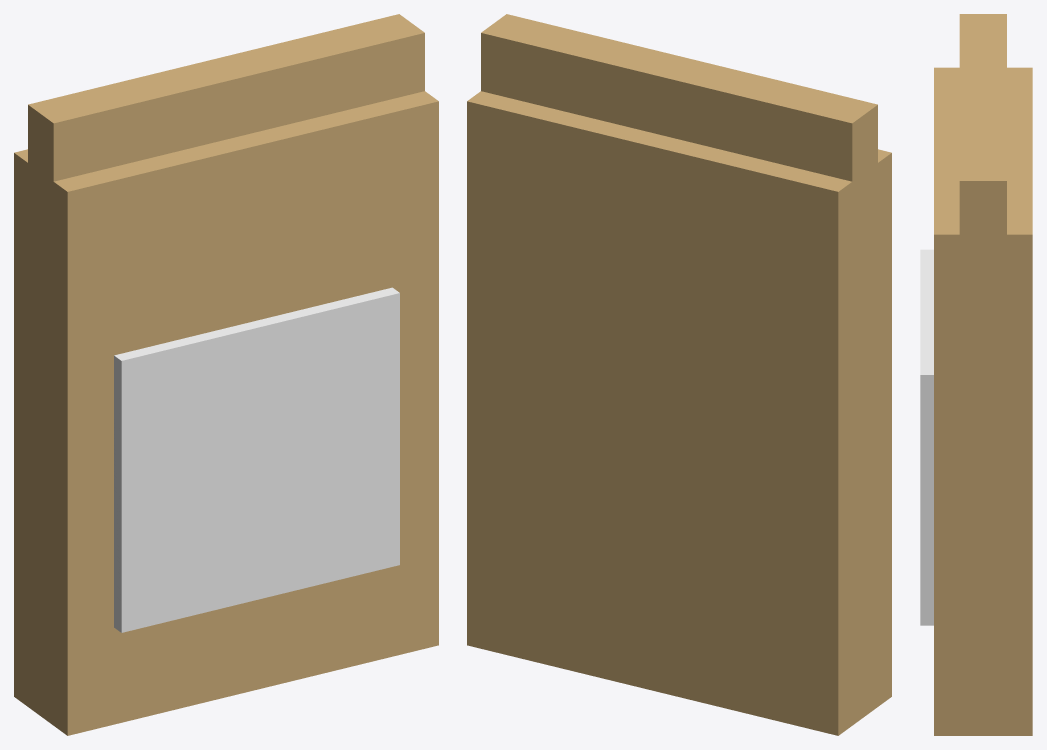
File: f08-benih.glb
3 renders of one model, left to right at view 1: azimuth 30°, elevation 25°; view 2: azimuth 150°, elevation 25°; view 3: azimuth 270°, elevation 25°, orthographic. The views are drawn at different scales.
Parts seen in each view (by area): view 1: EX_kebun:kertas, EX_kebun:label; view 2: EX_kebun:kertas; view 3: EX_kebun:kertas, EX_kebun:label.
Boxes of the visible parts, x1=… form: EX_kebun:kertas: x1=14, y1=14, x2=438, y2=735; EX_kebun:label: x1=114, y1=287, x2=399, y2=632; EX_kebun:kertas: x1=467, y1=14, x2=891, y2=735; EX_kebun:kertas: x1=934, y1=14, x2=1032, y2=735; EX_kebun:label: x1=920, y1=249, x2=933, y2=625.
Size of the model in its own units: 0.1 by 0.155 by 0.0285.
